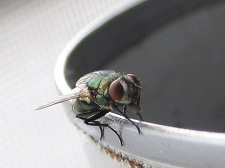fly: (33, 69, 143, 149)
